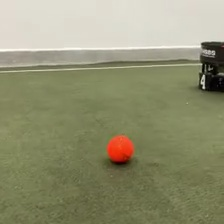ball: (105, 134, 135, 166)
robot: (196, 40, 224, 93)
